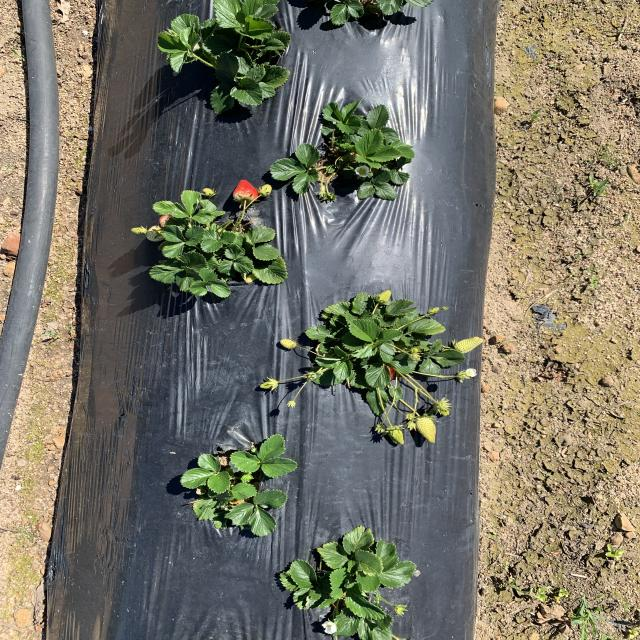unripe: (230, 178, 261, 206), (373, 356, 398, 381)
